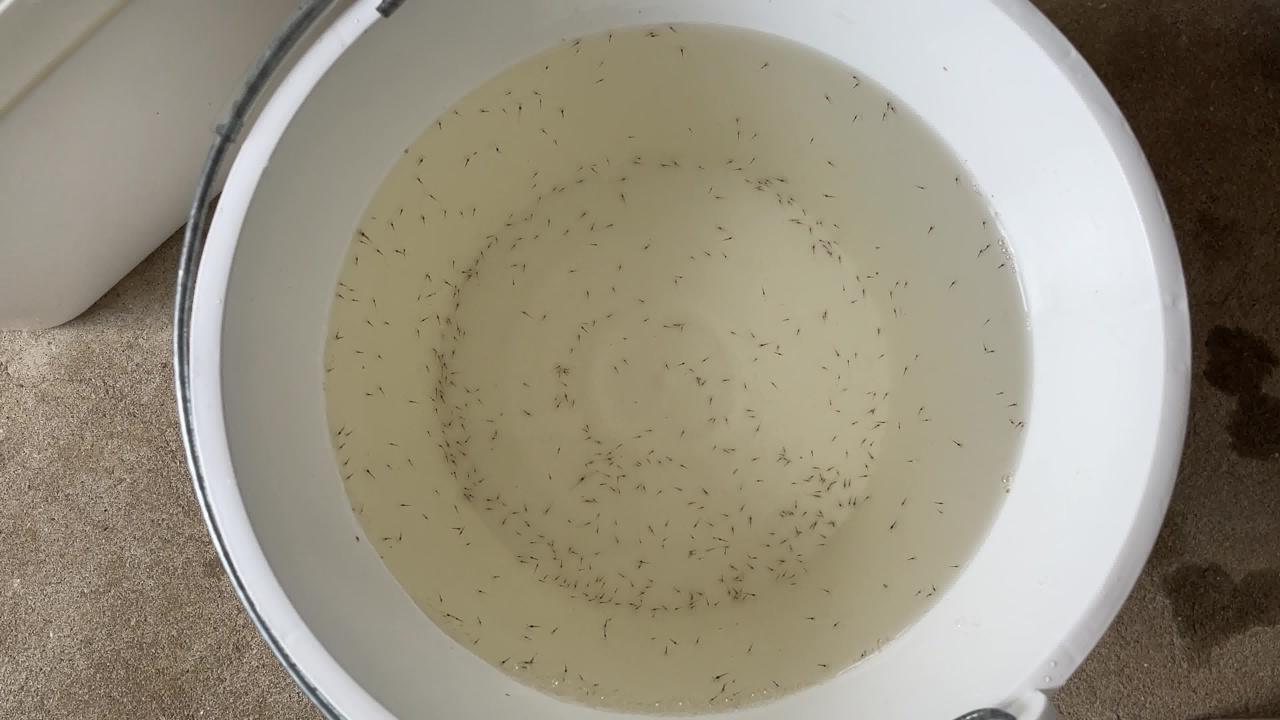shrimp: (981, 244, 993, 252), (973, 250, 985, 258), (993, 259, 1005, 267), (978, 221, 990, 229), (949, 182, 961, 190), (927, 221, 939, 229), (913, 188, 925, 196), (946, 281, 958, 289), (982, 320, 994, 328), (986, 351, 998, 359), (976, 345, 988, 353), (988, 389, 1000, 397), (1006, 401, 1018, 409), (1014, 421, 1026, 429), (1004, 419, 1016, 427), (953, 444, 965, 452), (932, 498, 944, 506), (933, 509, 945, 517), (921, 419, 933, 427), (916, 410, 928, 418), (950, 564, 962, 572), (928, 586, 940, 594), (923, 593, 935, 601), (909, 588, 921, 596), (907, 556, 919, 564), (883, 522, 895, 530), (896, 501, 908, 509), (904, 461, 916, 469), (893, 426, 905, 434), (912, 355, 924, 363), (900, 370, 912, 378), (880, 392, 892, 400), (871, 392, 883, 400), (863, 390, 875, 398), (875, 354, 887, 362), (888, 314, 900, 322), (897, 281, 909, 289), (890, 279, 902, 287), (886, 292, 898, 300), (886, 105, 898, 113), (881, 99, 893, 107), (876, 114, 888, 122), (849, 82, 861, 90), (849, 76, 861, 84), (849, 113, 861, 121), (824, 98, 836, 106), (757, 63, 769, 71), (676, 50, 688, 58), (670, 27, 682, 35), (652, 35, 664, 43), (644, 30, 656, 38), (608, 34, 620, 42), (592, 61, 604, 69), (593, 81, 605, 89), (574, 51, 586, 59), (575, 37, 587, 45), (731, 133, 743, 141), (748, 130, 760, 138), (803, 140, 815, 148), (822, 160, 834, 168), (819, 196, 831, 204), (870, 244, 882, 252), (871, 268, 883, 276), (861, 273, 873, 281), (847, 275, 859, 283), (858, 287, 870, 295), (873, 329, 885, 337), (847, 299, 859, 307), (835, 284, 847, 292), (836, 251, 848, 259), (827, 225, 839, 233), (830, 239, 842, 247), (824, 239, 836, 247), (816, 236, 828, 244), (820, 244, 832, 252), (823, 252, 835, 260), (815, 220, 827, 228), (803, 226, 815, 234), (806, 246, 818, 254), (798, 209, 810, 217), (786, 218, 798, 226), (793, 221, 805, 229), (786, 203, 798, 211), (785, 193, 797, 201), (775, 174, 787, 182), (773, 193, 785, 201), (773, 199, 785, 207), (764, 177, 776, 185), (755, 178, 767, 186), (748, 184, 760, 192), (753, 186, 765, 194), (741, 179, 753, 187), (745, 159, 757, 167), (730, 168, 742, 176), (725, 158, 737, 166), (842, 360, 854, 368), (847, 351, 859, 359), (835, 351, 847, 359), (816, 314, 828, 322), (818, 368, 830, 376), (832, 375, 844, 383), (840, 389, 852, 397), (867, 407, 879, 415), (875, 419, 887, 427), (869, 424, 881, 432), (846, 419, 858, 427), (833, 409, 845, 417), (820, 400, 832, 408), (859, 439, 871, 447), (866, 440, 878, 448), (866, 450, 878, 458), (860, 461, 872, 469), (856, 471, 868, 479), (840, 450, 852, 458), (829, 437, 841, 445), (767, 381, 779, 389), (772, 352, 784, 360), (770, 346, 782, 354), (793, 330, 805, 338), (781, 318, 793, 326), (757, 292, 769, 300), (760, 344, 772, 352), (751, 355, 763, 363), (746, 333, 758, 341), (721, 331, 733, 339), (717, 255, 729, 263), (718, 237, 730, 245), (715, 226, 727, 234), (711, 193, 723, 201), (703, 186, 715, 194), (693, 166, 705, 174), (683, 127, 695, 135), (731, 116, 743, 124), (539, 65, 551, 73), (529, 90, 541, 98), (533, 100, 545, 108), (555, 107, 567, 115), (619, 134, 631, 142), (633, 154, 645, 162), (630, 161, 642, 169), (671, 160, 683, 168), (661, 160, 673, 168), (702, 248, 714, 256), (687, 258, 699, 266), (671, 273, 683, 281), (669, 282, 681, 290), (381, 535, 393, 543), (394, 535, 406, 543), (447, 613, 459, 621), (452, 619, 464, 627), (433, 597, 445, 605), (443, 611, 455, 619), (469, 618, 481, 626), (469, 642, 481, 650), (821, 661, 833, 669), (878, 584, 890, 592), (828, 620, 840, 628), (820, 589, 832, 597), (806, 613, 818, 621), (741, 645, 753, 653), (771, 682, 783, 690), (711, 672, 723, 680), (718, 682, 730, 690), (729, 690, 741, 698), (707, 694, 719, 702), (660, 651, 672, 659), (669, 642, 681, 650), (688, 640, 700, 648), (647, 638, 659, 646), (597, 632, 609, 640), (597, 625, 609, 633), (602, 618, 614, 626), (555, 668, 567, 676), (575, 676, 587, 684), (592, 684, 604, 692), (543, 628, 555, 636), (527, 622, 539, 630), (522, 635, 534, 643), (517, 657, 529, 665), (527, 656, 539, 664), (494, 661, 506, 669), (514, 664, 526, 672), (476, 593, 488, 601), (488, 577, 500, 585), (838, 480, 850, 488), (843, 480, 855, 488), (841, 503, 853, 511), (847, 502, 859, 510), (864, 498, 876, 506), (833, 506, 845, 514), (824, 486, 836, 494), (830, 472, 842, 480), (805, 450, 817, 458), (746, 416, 758, 424), (744, 408, 756, 416), (738, 379, 750, 387), (721, 381, 733, 389), (697, 360, 709, 368), (750, 425, 762, 433), (823, 470, 835, 478), (816, 482, 828, 490), (813, 476, 825, 484), (811, 465, 823, 473), (801, 477, 813, 485), (805, 473, 817, 481), (793, 455, 805, 463), (782, 461, 794, 469), (772, 457, 784, 465), (780, 457, 792, 465), (774, 451, 786, 459), (778, 448, 790, 456), (831, 522, 843, 530), (823, 521, 835, 529), (810, 495, 822, 503), (815, 488, 827, 496), (814, 509, 826, 517), (812, 513, 824, 521), (809, 523, 821, 531), (802, 522, 814, 530), (799, 512, 811, 520), (790, 482, 802, 490), (816, 529, 828, 537), (816, 539, 828, 547), (797, 530, 809, 538), (789, 527, 801, 535), (790, 500, 802, 508), (785, 509, 797, 517), (781, 512, 793, 520), (776, 510, 788, 518), (774, 516, 786, 524), (776, 537, 788, 545), (781, 542, 793, 550), (790, 552, 802, 560), (789, 558, 801, 566), (795, 565, 807, 573), (787, 572, 799, 580), (787, 580, 799, 588), (777, 570, 789, 578), (775, 559, 787, 567), (768, 533, 780, 541), (757, 543, 769, 551), (751, 479, 763, 487), (748, 457, 760, 465), (545, 142, 557, 150), (535, 127, 547, 135), (584, 169, 596, 177), (588, 158, 600, 166), (616, 176, 628, 184), (615, 194, 627, 202), (602, 157, 614, 165), (639, 242, 651, 250), (677, 325, 689, 333), (666, 321, 678, 329), (660, 327, 672, 335), (691, 380, 703, 388), (692, 373, 704, 381), (698, 381, 710, 389), (684, 371, 696, 379), (675, 361, 687, 369), (661, 365, 673, 373), (638, 317, 650, 325), (634, 301, 646, 309), (620, 336, 632, 344), (619, 356, 631, 364), (609, 364, 621, 372), (704, 418, 716, 426), (708, 419, 720, 427), (702, 398, 714, 406), (718, 417, 730, 425), (588, 323, 600, 331), (580, 320, 592, 328), (601, 313, 613, 321), (608, 286, 620, 294), (612, 263, 624, 271), (582, 292, 594, 300), (574, 334, 586, 342), (563, 349, 575, 357), (536, 314, 548, 322), (520, 314, 532, 322), (568, 270, 580, 278), (604, 218, 616, 226), (586, 240, 598, 248), (576, 212, 588, 220), (587, 226, 599, 234), (571, 168, 583, 176), (570, 179, 582, 187), (512, 106, 524, 114), (502, 91, 514, 99), (476, 109, 488, 117), (496, 109, 508, 117), (492, 149, 504, 157), (459, 157, 471, 165), (468, 151, 480, 159), (451, 110, 463, 118), (436, 120, 448, 128), (414, 163, 426, 171), (411, 178, 423, 186), (426, 194, 438, 202), (438, 208, 450, 216), (456, 211, 468, 219), (469, 209, 481, 217), (527, 171, 539, 179), (543, 185, 555, 193), (552, 187, 564, 195), (523, 183, 535, 191), (531, 197, 543, 205), (562, 231, 574, 239), (543, 221, 555, 229), (699, 490, 711, 498), (720, 450, 732, 458), (726, 447, 738, 455), (710, 447, 722, 455), (725, 470, 737, 478), (735, 486, 747, 494), (734, 506, 746, 514), (744, 518, 756, 526), (764, 568, 776, 576), (751, 554, 763, 562), (741, 553, 753, 561), (748, 566, 760, 574), (747, 590, 759, 598), (710, 602, 722, 610), (699, 603, 711, 611), (696, 589, 708, 597), (668, 588, 680, 596), (683, 592, 695, 600), (685, 599, 697, 607), (686, 605, 698, 613), (670, 608, 682, 616), (646, 614, 658, 622), (649, 608, 661, 616), (658, 607, 670, 615), (641, 527, 653, 535), (661, 537, 673, 545), (716, 515, 728, 523), (657, 544, 669, 552), (661, 521, 673, 529), (726, 528, 738, 536), (712, 538, 724, 546), (723, 545, 735, 553), (717, 553, 729, 561), (690, 528, 702, 536), (706, 522, 718, 530), (701, 547, 713, 555), (684, 552, 696, 560), (684, 545, 696, 553), (694, 557, 706, 565), (694, 505, 706, 513), (681, 503, 693, 511), (672, 487, 684, 495), (677, 464, 689, 472), (675, 430, 687, 438), (664, 457, 676, 465), (726, 565, 738, 573), (729, 571, 741, 579), (734, 575, 746, 583), (714, 576, 726, 584), (721, 592, 733, 600), (730, 598, 742, 606), (740, 598, 752, 606), (728, 591, 740, 599), (736, 589, 748, 597), (648, 574, 660, 582), (644, 582, 656, 590), (637, 590, 649, 598), (637, 601, 649, 609), (625, 600, 637, 608), (624, 581, 636, 589), (631, 566, 643, 574), (634, 559, 646, 567), (632, 538, 644, 546), (607, 600, 619, 608), (608, 589, 620, 597), (613, 572, 625, 580), (609, 538, 621, 546), (609, 519, 621, 527), (650, 491, 662, 499), (653, 458, 665, 466), (645, 449, 657, 457), (645, 426, 657, 434), (633, 436, 645, 444), (530, 235, 542, 243), (526, 212, 538, 220), (516, 217, 528, 225), (502, 212, 514, 220), (500, 221, 512, 229), (513, 236, 525, 244), (505, 243, 517, 251), (518, 264, 530, 272), (508, 280, 520, 288), (510, 262, 522, 270), (492, 237, 504, 245), (482, 231, 494, 239), (483, 242, 495, 250), (476, 250, 488, 258), (468, 257, 480, 265), (469, 273, 481, 281), (455, 270, 467, 278), (465, 264, 477, 272), (462, 274, 474, 282), (447, 261, 459, 269), (420, 216, 432, 224), (398, 208, 410, 216), (384, 227, 396, 235), (399, 247, 411, 255), (391, 251, 403, 259), (370, 249, 382, 257), (356, 229, 368, 237), (356, 238, 368, 246), (350, 258, 362, 266), (345, 286, 357, 294), (348, 295, 360, 303), (332, 279, 344, 287), (335, 291, 347, 299), (328, 332, 340, 340), (333, 336, 345, 344), (322, 370, 334, 378), (346, 476, 358, 484), (338, 461, 350, 469), (333, 449, 345, 457), (344, 427, 356, 435), (330, 427, 342, 435), (364, 463, 376, 471), (396, 501, 408, 509), (418, 517, 430, 525), (447, 526, 459, 534), (455, 530, 467, 538), (463, 543, 475, 551), (452, 504, 464, 512), (428, 491, 440, 499), (403, 456, 415, 464), (391, 442, 403, 450), (379, 465, 391, 473), (379, 322, 391, 330), (367, 301, 379, 309), (362, 318, 374, 326), (373, 355, 385, 363), (377, 388, 389, 396), (405, 397, 417, 405), (355, 393, 367, 401), (356, 365, 368, 373), (350, 349, 362, 357), (553, 447, 565, 455), (567, 402, 579, 410), (559, 393, 571, 401), (558, 372, 570, 380), (560, 366, 572, 374), (550, 362, 562, 370), (550, 371, 562, 379), (559, 380, 571, 388), (553, 405, 565, 413), (548, 398, 560, 406), (453, 289, 465, 297), (446, 294, 458, 302), (449, 284, 461, 292), (521, 384, 533, 392), (522, 409, 534, 417), (639, 487, 651, 495), (631, 485, 643, 493), (645, 458, 657, 466), (633, 463, 645, 471), (578, 430, 590, 438), (582, 425, 594, 433), (583, 436, 595, 444), (592, 442, 604, 450), (617, 441, 629, 449), (602, 449, 614, 457), (590, 451, 602, 459), (601, 456, 613, 464), (605, 462, 617, 470), (611, 463, 623, 471), (616, 473, 628, 481), (612, 477, 624, 485), (425, 276, 437, 284), (440, 281, 452, 289), (416, 274, 428, 282), (425, 291, 437, 299), (413, 297, 425, 305), (419, 319, 431, 327), (452, 303, 464, 311), (445, 317, 457, 325), (440, 320, 452, 328), (429, 314, 441, 322), (410, 333, 422, 341), (485, 437, 497, 445), (491, 427, 503, 435), (494, 411, 506, 419), (574, 474, 586, 482), (614, 489, 626, 497), (595, 482, 607, 490), (580, 464, 592, 472), (585, 458, 597, 466), (596, 471, 608, 479), (606, 488, 618, 496), (592, 497, 604, 505), (579, 499, 591, 507), (574, 495, 586, 503), (542, 476, 554, 484), (592, 514, 604, 522), (591, 532, 603, 540), (590, 553, 602, 561), (599, 583, 611, 591), (596, 603, 608, 611), (595, 594, 607, 602), (598, 575, 610, 583), (586, 578, 598, 586), (583, 564, 595, 572), (580, 520, 592, 528), (563, 518, 575, 526), (539, 510, 551, 518), (448, 324, 460, 332), (452, 332, 464, 340), (458, 330, 470, 338), (447, 353, 459, 361), (429, 348, 441, 356), (436, 351, 448, 359), (432, 359, 444, 367), (440, 363, 452, 371), (450, 368, 462, 376), (446, 383, 458, 391), (437, 374, 449, 382), (473, 388, 485, 396), (459, 390, 471, 398), (476, 397, 488, 405), (483, 418, 495, 426), (522, 506, 534, 514), (513, 531, 525, 539), (518, 519, 530, 527), (500, 519, 512, 527), (512, 512, 524, 520), (495, 502, 507, 510), (487, 507, 499, 515), (492, 494, 504, 502), (480, 500, 492, 508), (574, 557, 586, 565), (570, 550, 582, 558), (563, 545, 575, 553), (580, 587, 592, 595), (585, 599, 597, 607), (567, 597, 579, 605), (553, 585, 565, 593), (534, 580, 546, 588), (549, 555, 561, 563), (542, 545, 554, 553), (547, 537, 559, 545), (554, 563, 566, 571), (570, 578, 582, 586), (559, 574, 571, 582), (562, 582, 574, 590), (549, 576, 561, 584), (531, 564, 543, 572), (514, 563, 526, 571), (535, 532, 547, 540), (525, 557, 537, 565), (528, 540, 540, 548), (511, 556, 523, 564), (457, 496, 469, 504), (420, 366, 432, 374), (434, 396, 446, 404), (436, 386, 448, 394), (427, 391, 439, 399), (461, 402, 473, 410), (461, 486, 473, 494), (478, 478, 490, 486), (445, 472, 457, 480), (422, 434, 434, 442), (447, 471, 459, 479), (468, 482, 480, 490), (470, 469, 482, 477), (461, 475, 473, 483), (453, 415, 465, 423), (450, 404, 462, 412), (431, 409, 443, 417), (456, 427, 468, 435), (438, 457, 450, 465), (459, 436, 471, 444), (443, 420, 455, 428), (438, 423, 450, 431), (437, 428, 449, 436), (457, 448, 469, 456), (450, 437, 462, 445), (435, 446, 447, 454), (449, 462, 461, 470), (438, 445, 450, 453), (443, 454, 455, 462), (348, 443, 360, 451)
